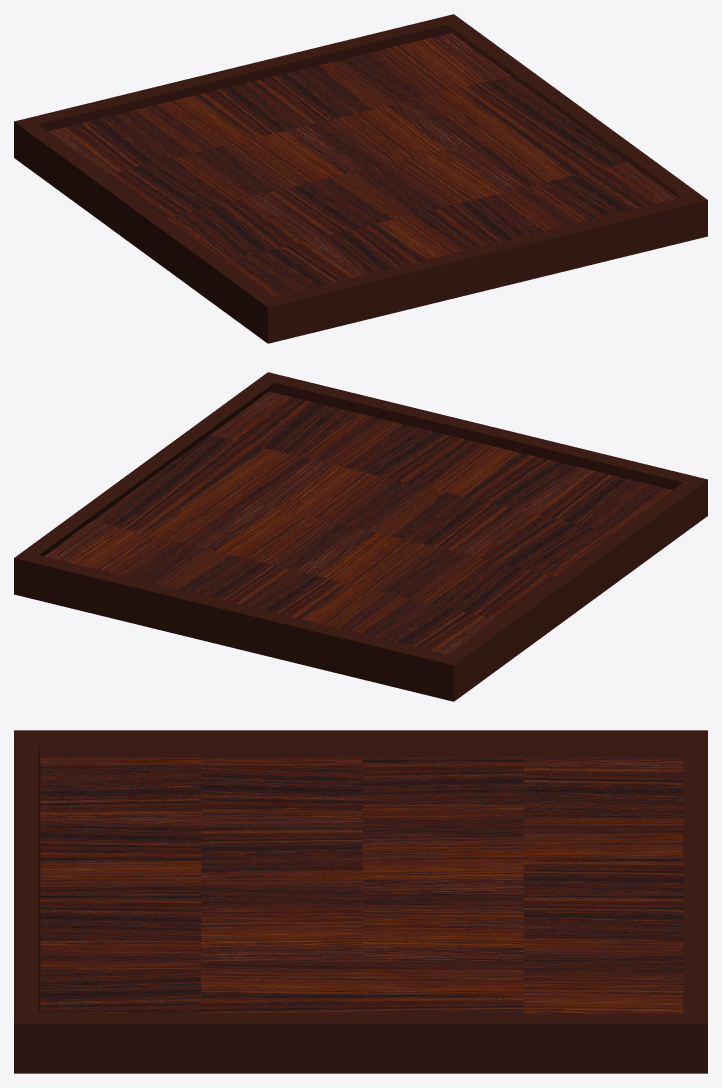
Rendered from score_four_01.dae.
3 renders of one model, top to bottom at view 1: azimuth 30°, elevation 25°; view 2: azimuth 150°, elevation 25°; view 3: azimuth 270°, elevation 25°, orthographic. The views are drawn at different scales.
Visible parts, largest first — view 1: base; view 2: base; view 3: base.
Boxes of the visible parts, box(x1,y1,x2,y2) form: base: box(14, 14, 707, 343); base: box(14, 372, 707, 701); base: box(14, 730, 707, 1073).
Size of the model in its own units: 5.02 by 5.02 by 0.3969.
Materials: 1 (1 with a texture image).
